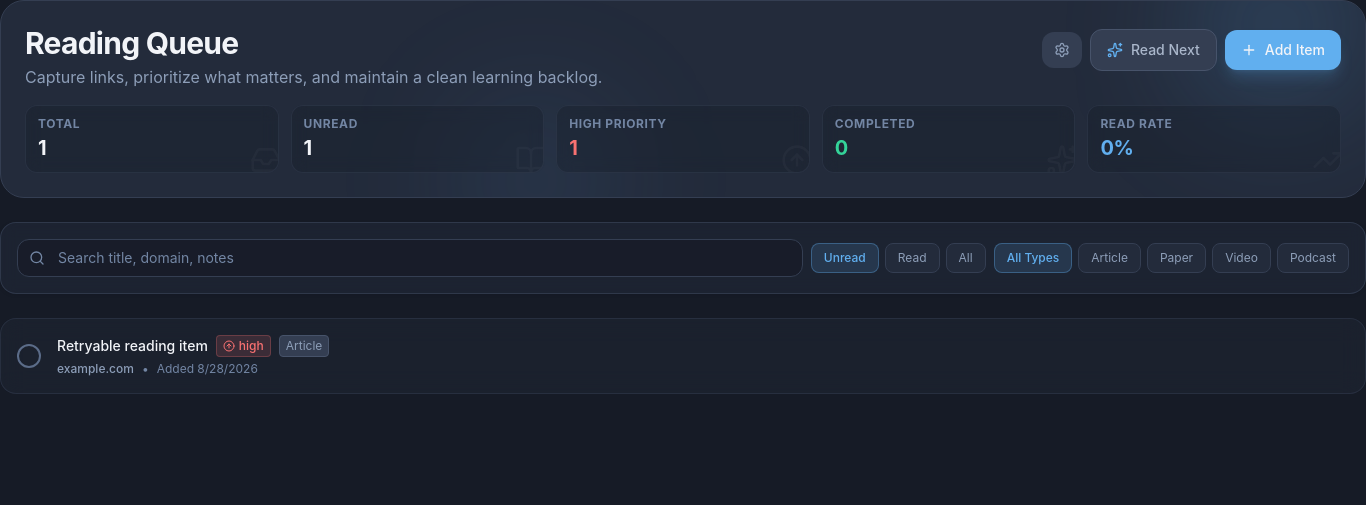
Scenario: ReadingListAdminView › keeps loaded items visible when a refresh after marking one as read fails
Click the button named "Mark as read" at (29, 356), box [17,344,41,368]
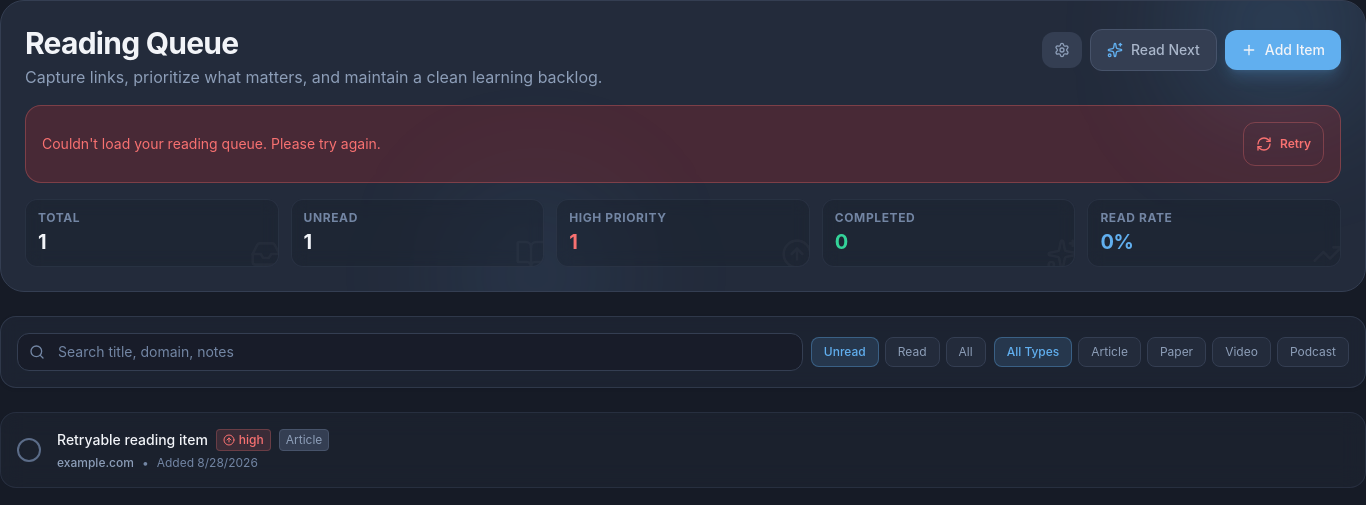
Expected: the text "Retryable reading item" is shown, [57,430,208,450]
Expected: the message "Couldn't load your reading queue. Please try again. Retry" is shown, [25,105,1341,183]
